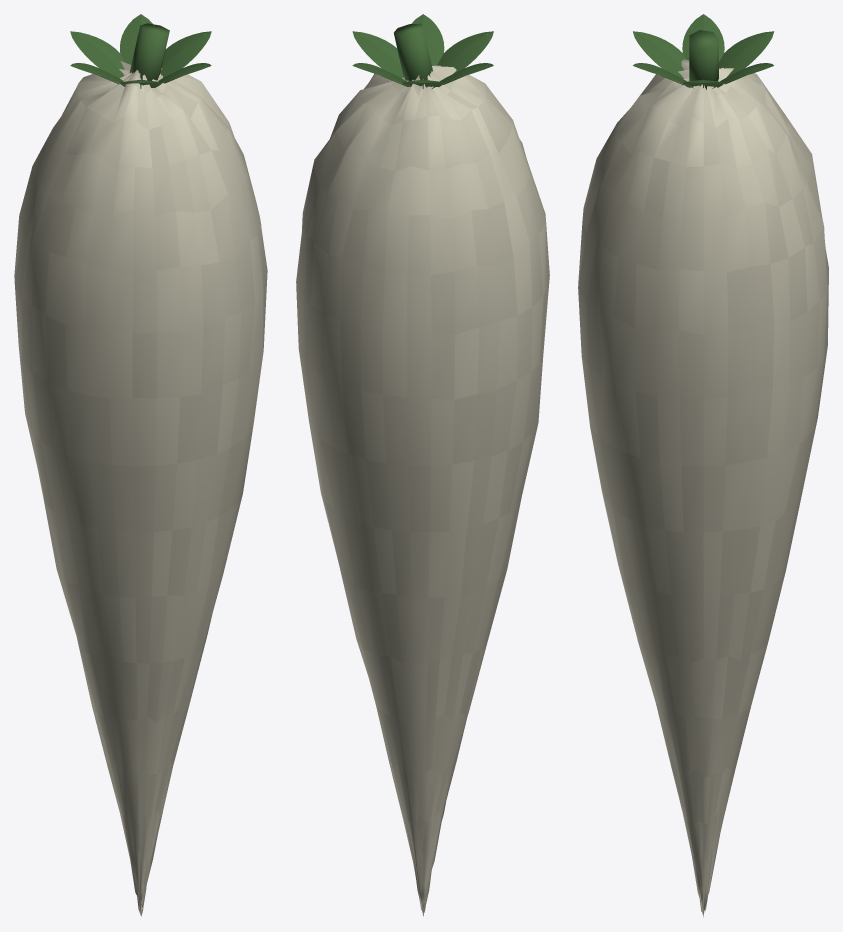
File: Daikon.glb
3 renders of one model, left to right at view 1: azimuth 30°, elevation 25°; view 2: azimuth 150°, elevation 25°; view 3: azimuth 270°, elevation 25°, orthographic.
Visible parts, largest first — view 1: Daikon; view 2: Daikon; view 3: Daikon.
Part boxes in pixels (x1=…): Daikon: x1=14, y1=14, x2=267, y2=916; Daikon: x1=296, y1=14, x2=549, y2=917; Daikon: x1=578, y1=14, x2=828, y2=917.
Size of what is drawn, in the model's own units: 0.0452 by 0.1763 by 0.0451.
